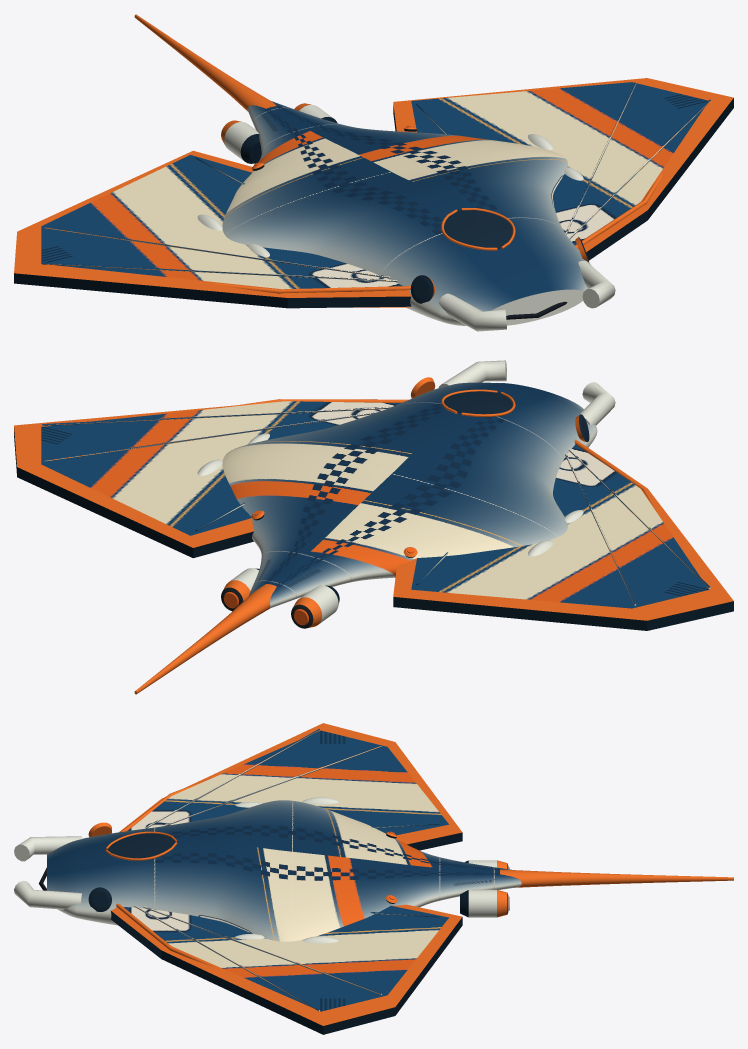
The picture shows the model from 3 angles, top to bottom: view 1: azimuth 30°, elevation 25°; view 2: azimuth 150°, elevation 25°; view 3: azimuth 270°, elevation 25°; orthographic projection. The views are drawn at different scales.
Parts seen in each view (by area): view 1: manta_ray_hull; view 2: manta_ray_hull; view 3: manta_ray_hull.
Boxes of the visible parts, x1,y1,x2,y2 form: manta_ray_hull: (14, 14, 733, 331); manta_ray_hull: (14, 360, 733, 694); manta_ray_hull: (14, 723, 733, 1034).
Bounding box in the file's own units: 255 × 28.67 × 256.
1 material, 1 textured.
